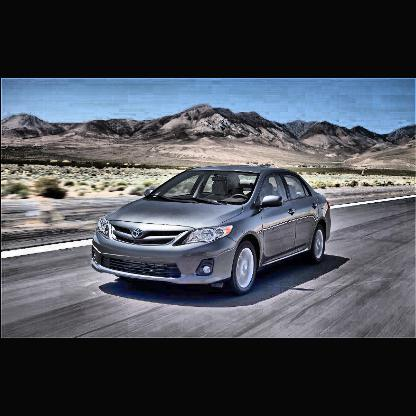Toyota Corolla Sedan 2012: (89, 163, 335, 297)
